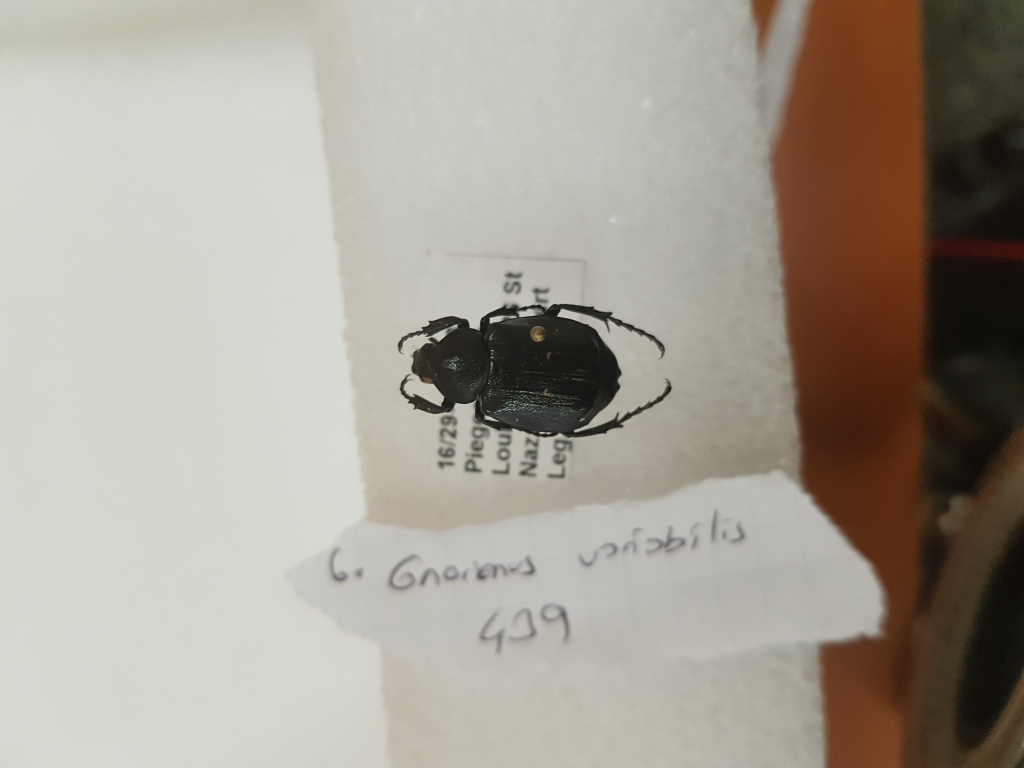Gnorimus_variabilis: (386, 291, 673, 437)
